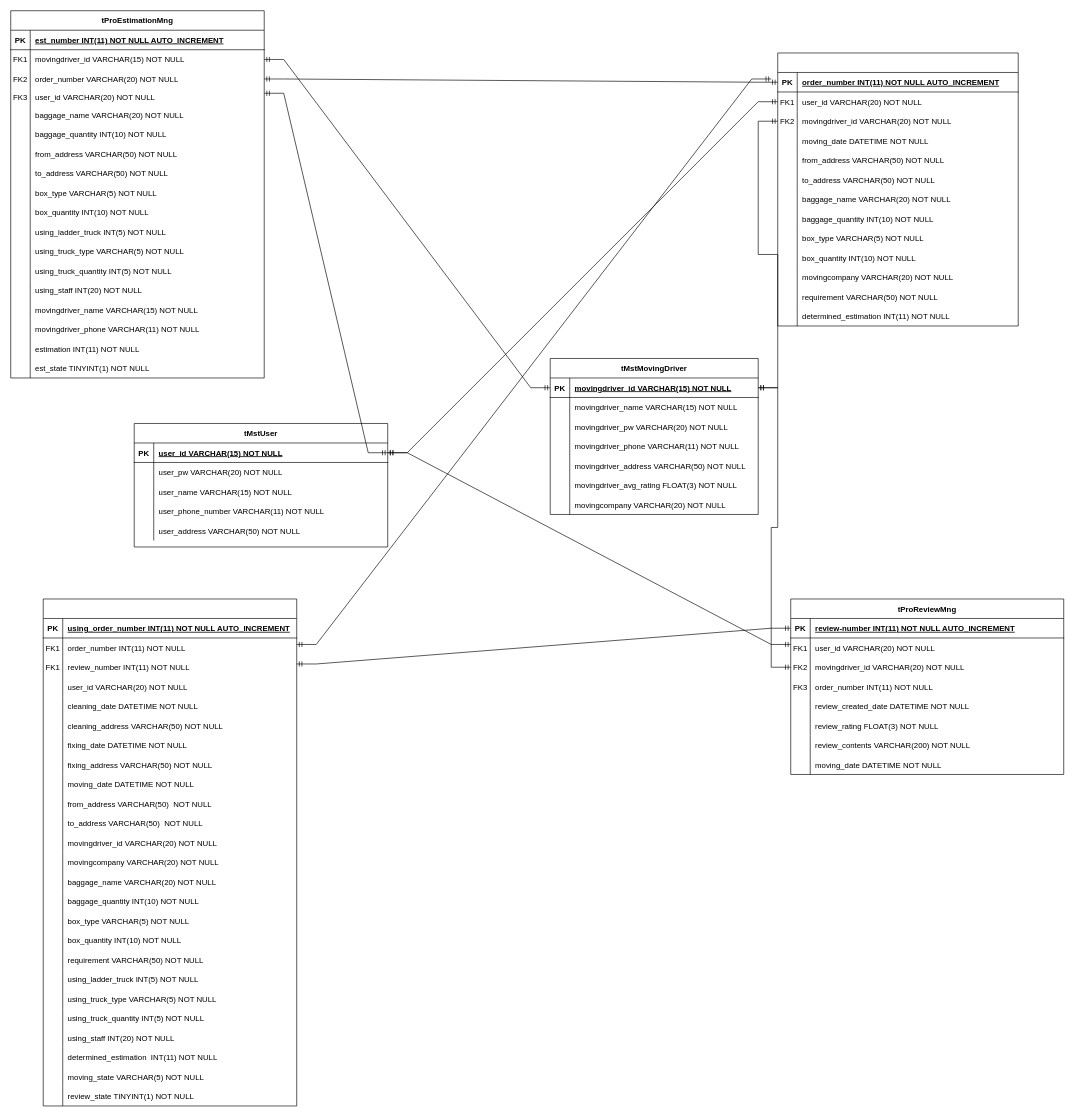
The diagram is 1074 pixels wide and 1117 high, and some of its shapes have lost their labels. Here are the shapes that lost their labels. From the top down, the box of each, then its label:
(777, 52, 1018, 326): tProMovingMng
(43, 598, 297, 1106): tProUsingHistory
